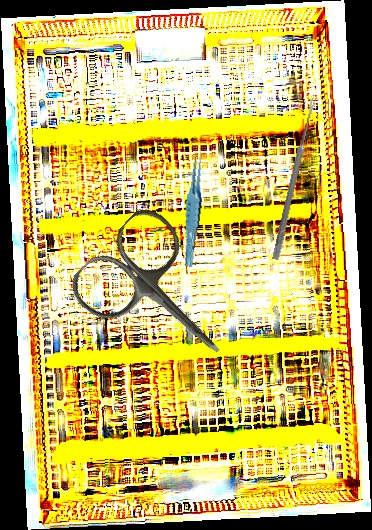Iris Scissors: (62, 199, 260, 397)
Surgical Spoon: (272, 97, 317, 261)
Tissue Forceps: (176, 147, 212, 268)
